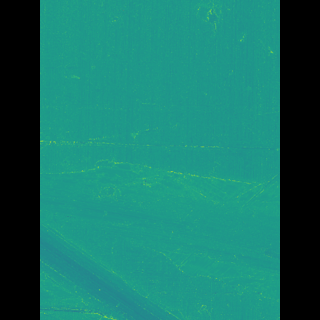Loch: (69, 156, 249, 319), (182, 0, 212, 44)
